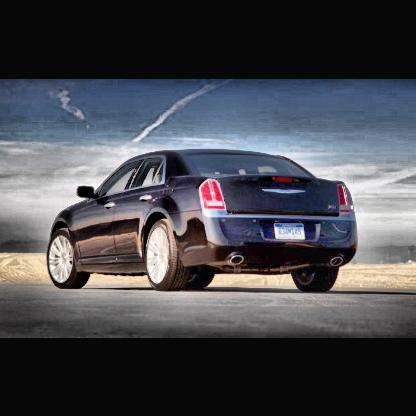Chrysler 300 SRT-8 2010: (47, 148, 361, 294)
